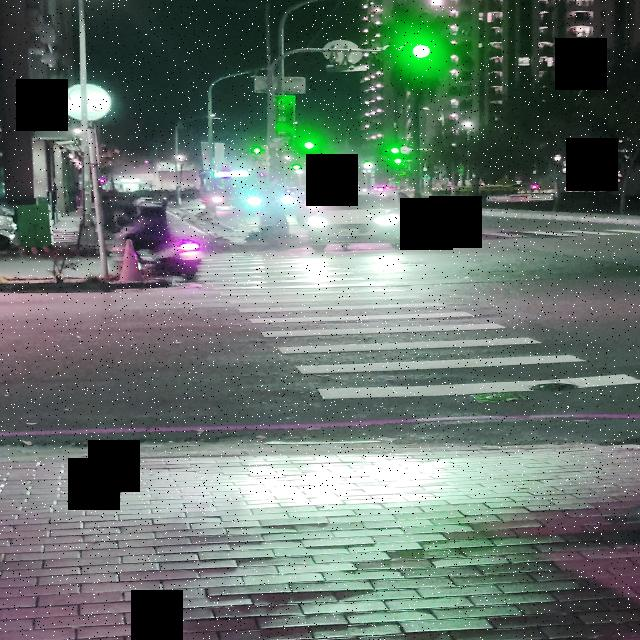zebra crossing: (209, 258, 638, 409), (432, 220, 637, 242)
